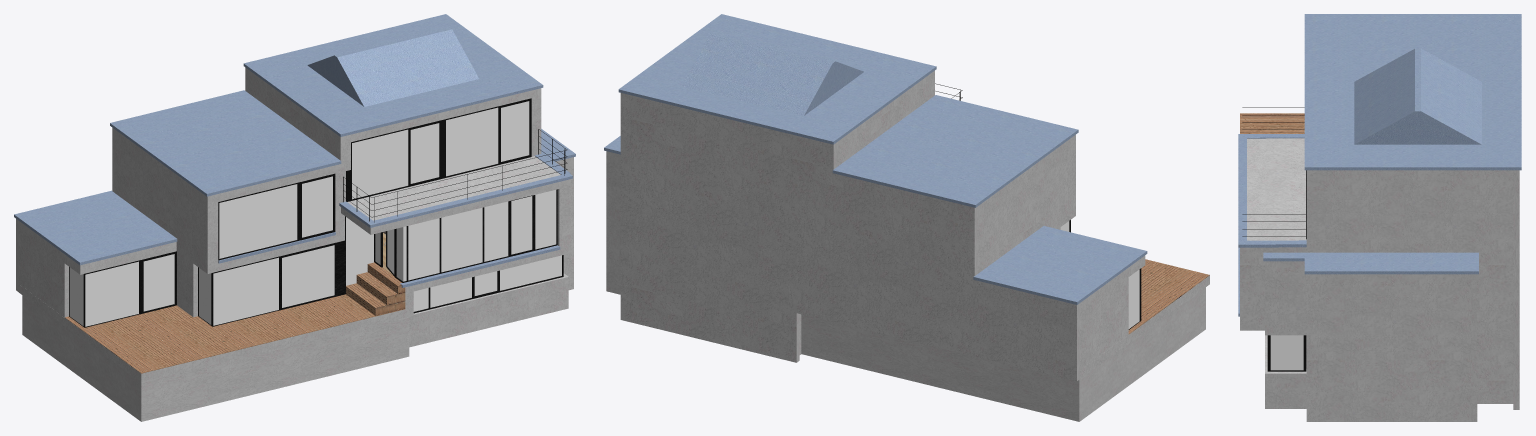
Rendered from house_base_textured_v0.5.gltf.
3 renders of one model, left to right at view 1: azimuth 30°, elevation 25°; view 2: azimuth 150°, elevation 25°; view 3: azimuth 270°, elevation 25°, orthographic. The views are drawn at different scales.
Visible parts, largest first — view 1: rooftops, windows_glasses, base, foundation, wooden_inside-outside, windows_bases, balkony, base_back; view 2: base_back, rooftops, foundation, base, wooden_inside-outside, windows_glasses; view 3: base, rooftops, base_back, wooden_inside-outside, windows_glasses, balkony, windows_bases.
Boxes of the visible parts, box(x1,y1,x2,y2) form: rooftops: box(14, 14, 575, 287); windows_glasses: box(69, 101, 561, 326); base: box(19, 70, 573, 381); foundation: box(22, 295, 409, 421); wooden_inside-outside: box(65, 262, 405, 373); windows_bases: box(69, 98, 563, 327); balkony: box(343, 129, 567, 222); base_back: box(16, 67, 248, 292); base_back: box(620, 93, 1079, 381); rooftops: box(604, 14, 1147, 304); foundation: box(801, 287, 1205, 421); base: box(606, 70, 1209, 378); wooden_inside-outside: box(1128, 259, 1209, 334); windows_glasses: box(1060, 221, 1139, 328); base: box(1240, 138, 1513, 421); rooftops: box(1238, 14, 1521, 316); base_back: box(1513, 170, 1519, 409); wooden_inside-outside: box(1240, 113, 1304, 133); windows_glasses: box(1270, 335, 1303, 370); balkony: box(1242, 107, 1306, 236); windows_bases: box(1267, 170, 1306, 371).
Size of what is drawn, in the model's own units: 43.96 by 22.35 by 20.77.
